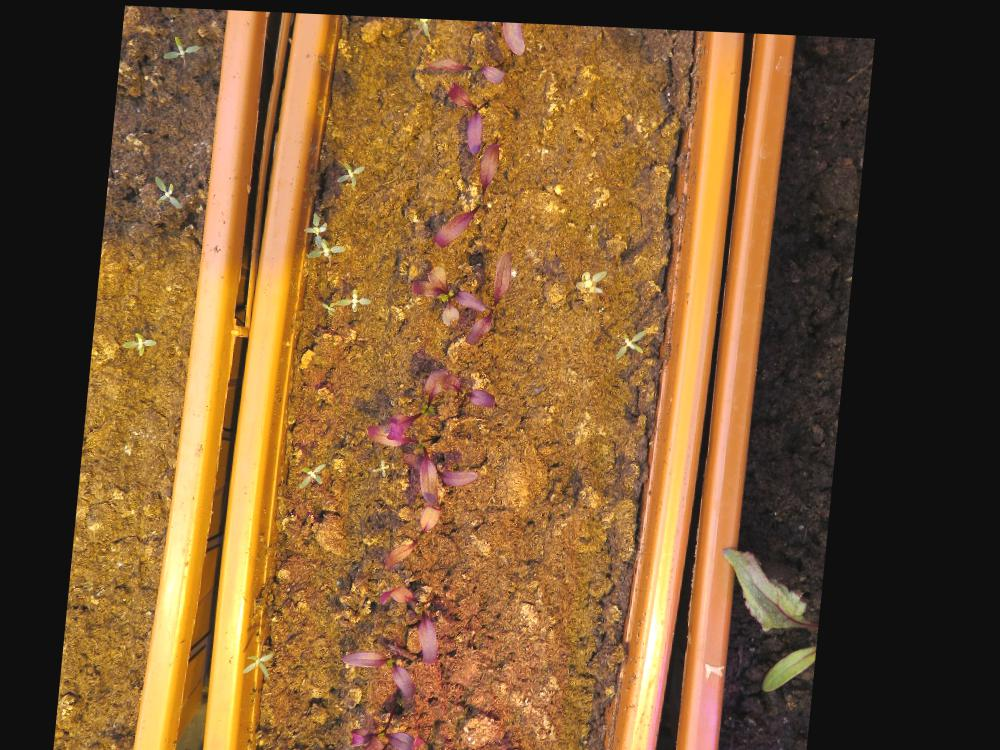weed: (619, 321, 656, 356), (154, 175, 188, 209), (162, 34, 200, 60), (126, 330, 163, 356), (305, 458, 336, 489), (253, 650, 287, 677), (336, 158, 369, 185), (409, 14, 438, 36), (377, 454, 399, 475)
